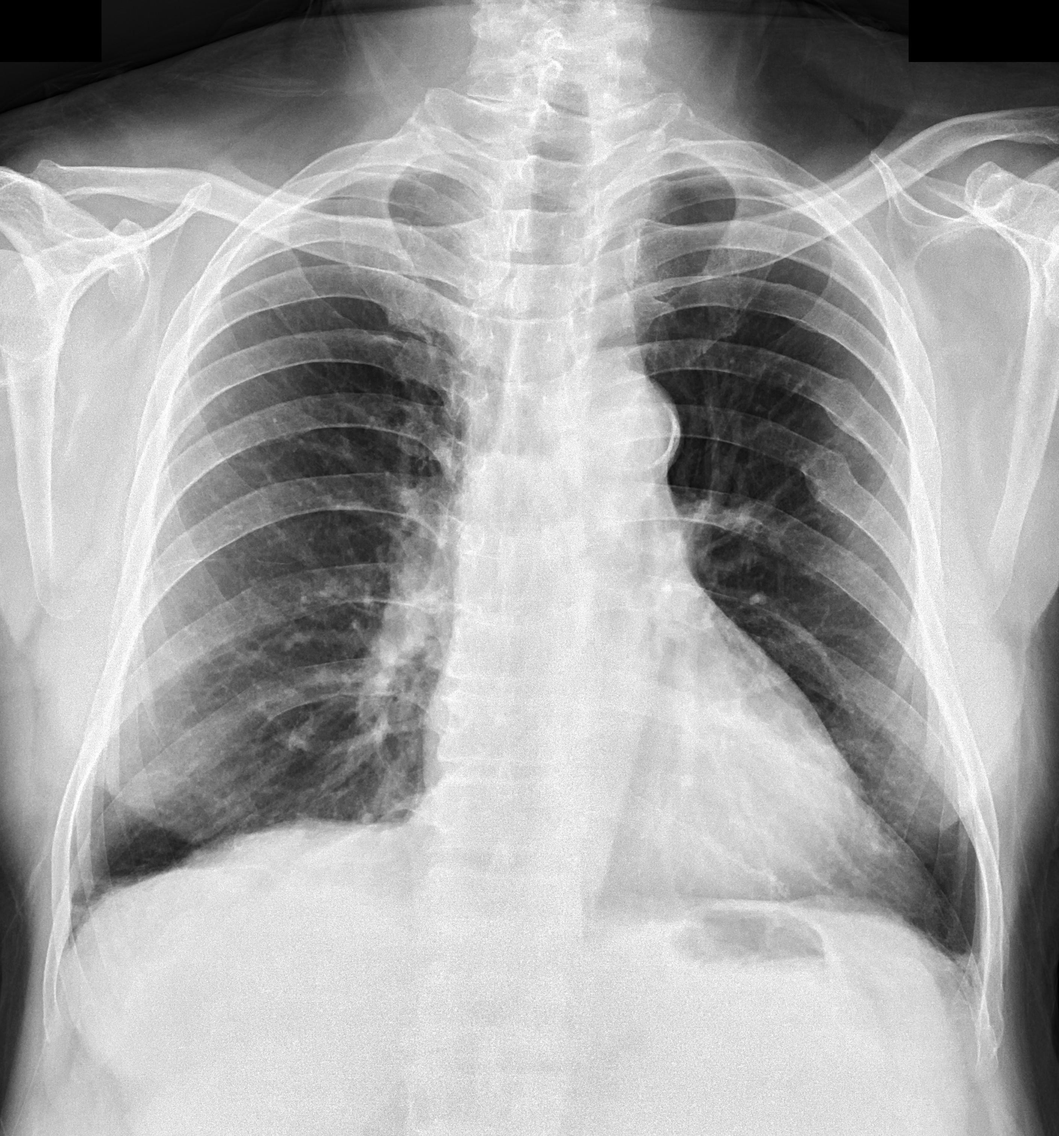Aortic enlargement: (539, 370, 685, 515)
Cardiomegaly: (417, 685, 884, 897)
Pleural thickening: (306, 165, 429, 198), (944, 936, 988, 1014), (648, 165, 791, 189)
